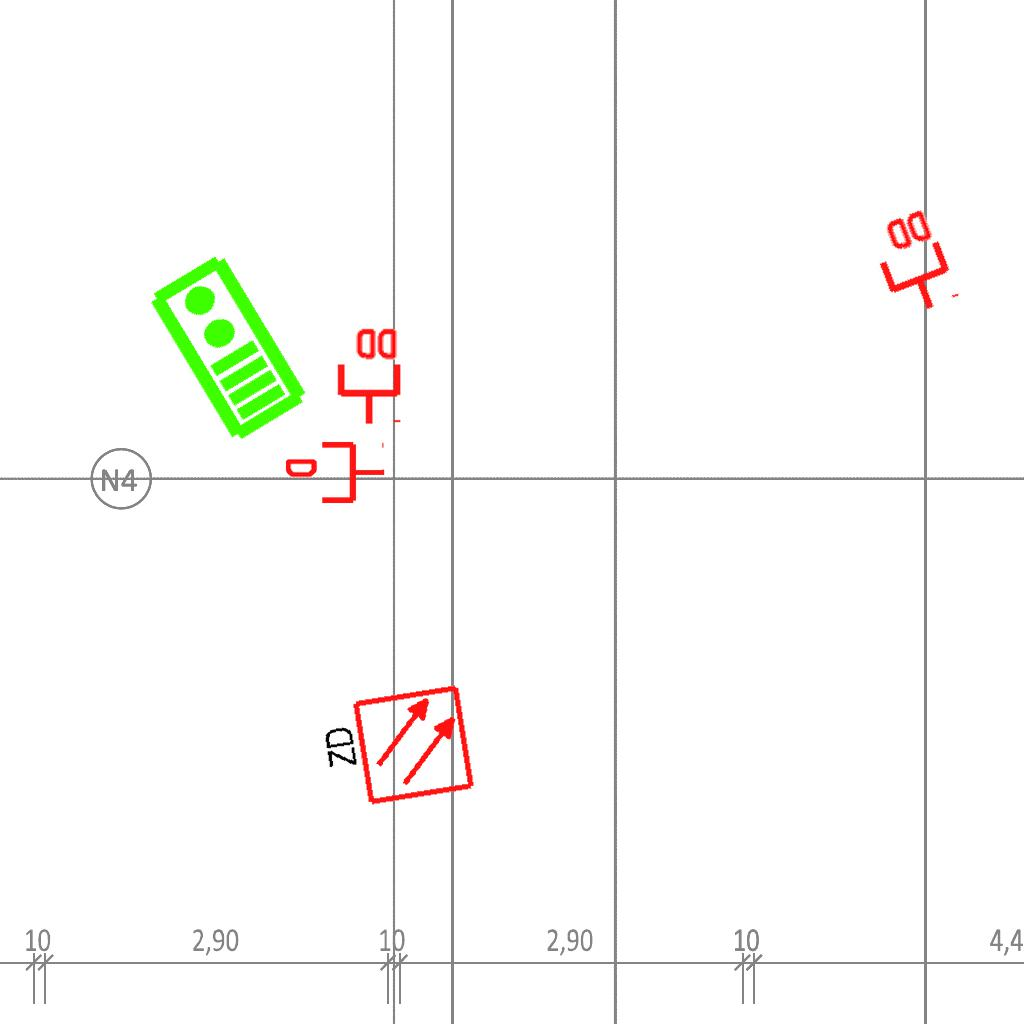Datenanschluss_einfach: (286, 438, 386, 507)
Datenanschluss_zweifach: (860, 203, 963, 324), (333, 324, 402, 427)
Gegensprechanlage_mit_Video: (140, 248, 313, 448)
ZD_Melder_in_Zwischendecke_mit_Revisionsoeffnung_mind_40_x_40_cm: (312, 681, 478, 818)
